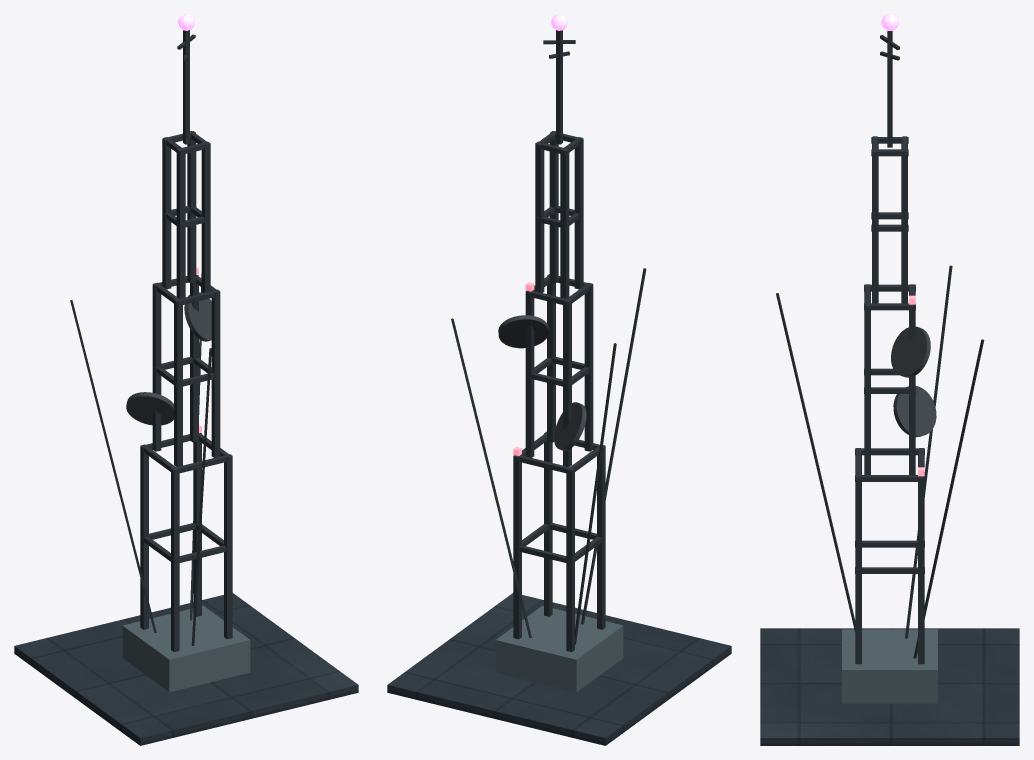
File: synthwave-antenna.glb
3 renders of one model, left to right at view 1: azimuth 30°, elevation 25°; view 2: azimuth 150°, elevation 25°; view 3: azimuth 270°, elevation 25°, orthographic. The views are drawn at different scales.
Visible parts, largest first — view 1: Ant_Frame, Pad, Base, Ant_Door; view 2: Ant_Frame, Pad, Base, Ant_Door; view 3: Pad, Ant_Frame, Base, Ant_Door.
Boxes of the visible parts, x1,y1,x2,y2 form: Ant_Frame: [70, 30, 232, 652]; Pad: [14, 593, 358, 745]; Base: [122, 606, 250, 692]; Ant_Door: [126, 292, 211, 425]; Ant_Frame: [451, 30, 646, 652]; Pad: [387, 593, 731, 745]; Base: [495, 606, 623, 692]; Ant_Door: [498, 315, 586, 451]; Pad: [760, 628, 1019, 745]; Ant_Frame: [776, 31, 984, 664]; Base: [842, 629, 937, 703]; Ant_Door: [891, 326, 936, 437].
Size of the model in its own units: 0.7 by 2.02 by 0.7.
6 materials, 1 textured.
